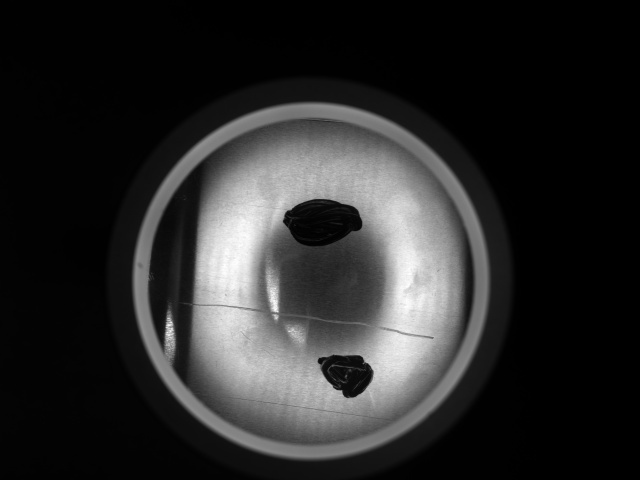ca_shang: (159, 295, 438, 340), (192, 390, 395, 425)
zang_wu: (282, 198, 364, 249), (316, 353, 375, 399)
